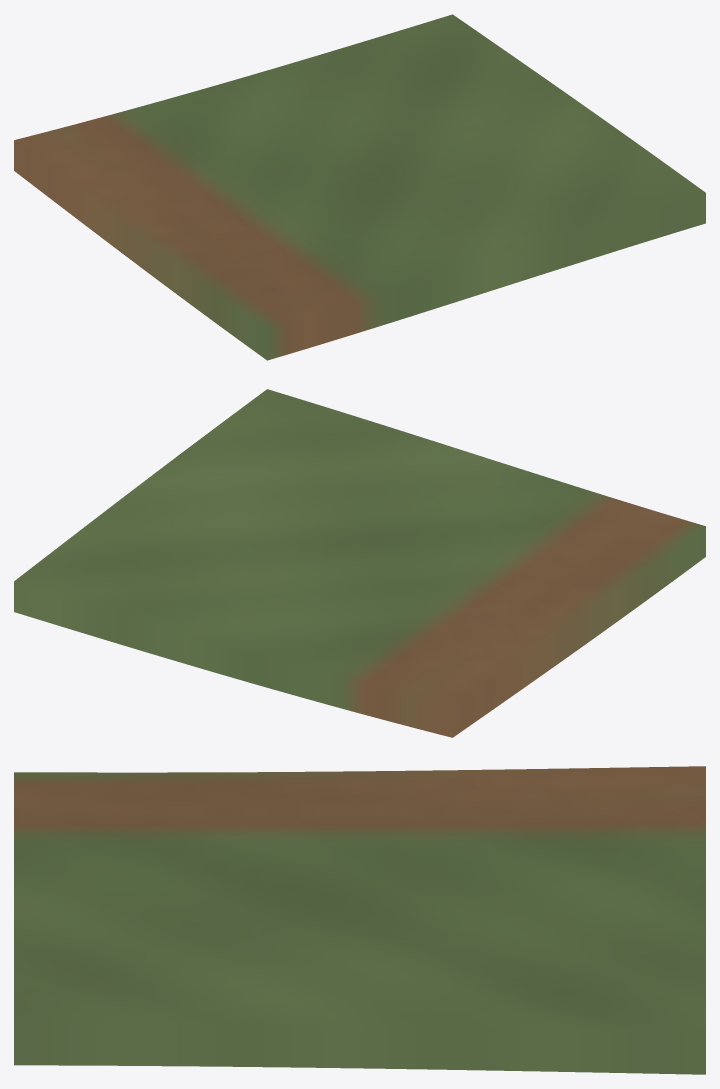
The picture shows the model from 3 angles, top to bottom: view 1: azimuth 30°, elevation 25°; view 2: azimuth 150°, elevation 25°; view 3: azimuth 270°, elevation 25°; orthographic projection. The views are drawn at different scales.
Parts seen in each view (by area): view 1: terrain; view 2: terrain; view 3: terrain.
Boxes of the visible parts, x1,y1,x2,y2 form: terrain: [14, 14, 705, 360]; terrain: [14, 389, 705, 737]; terrain: [14, 766, 705, 1074].
Size of the model in its own units: 30 by 3.98 by 30.
